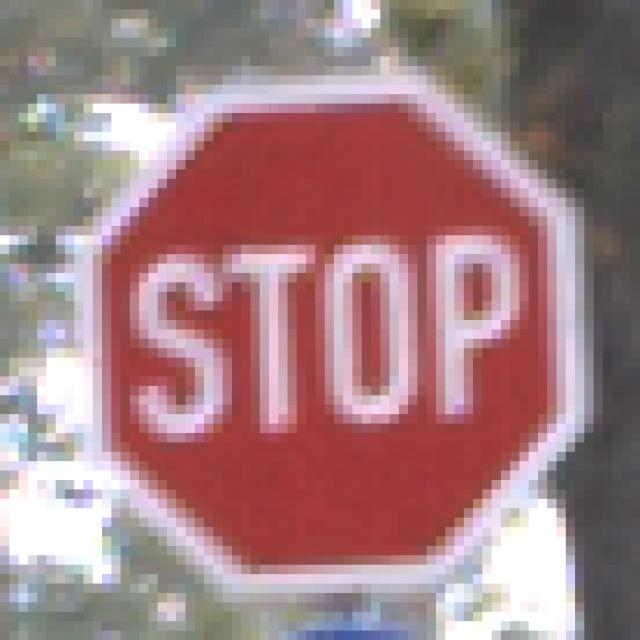STOP: (66, 58, 585, 585)
